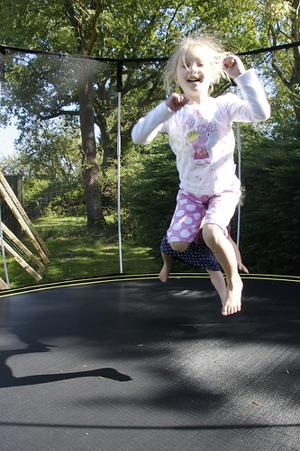person: (133, 32, 270, 317)
